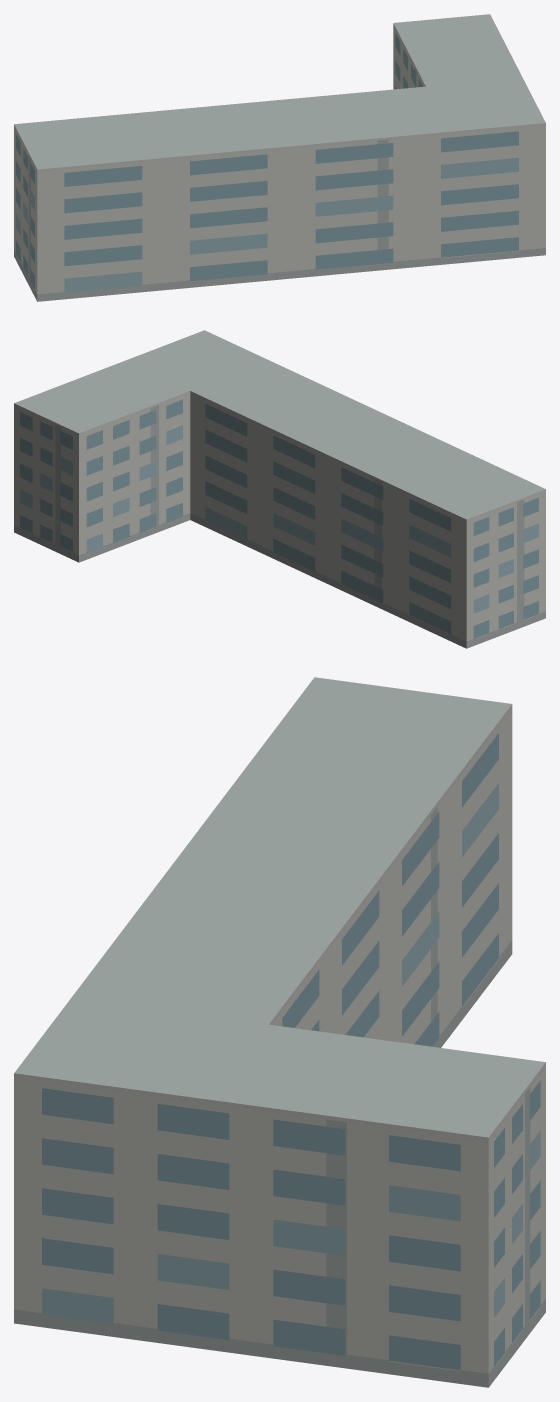
Rendered from residential-fe9609fb-17b7-47b8-a38f-8f9f9dfe7668.glb.
3 renders of one model, top to bottom at view 1: azimuth 30°, elevation 25°; view 2: azimuth 150°, elevation 25°; view 3: azimuth 270°, elevation 25°, orthographic. The views are drawn at different scales.
Parts seen in each view (by area): view 1: residential-fe9609fb-17b7-47b8-a38f-8f9f9dfe7668.tmp; view 2: residential-fe9609fb-17b7-47b8-a38f-8f9f9dfe7668.tmp; view 3: residential-fe9609fb-17b7-47b8-a38f-8f9f9dfe7668.tmp.
Boxes of the visible parts, x1,y1,x2,y2 form: residential-fe9609fb-17b7-47b8-a38f-8f9f9dfe7668.tmp: [14, 14, 545, 301]; residential-fe9609fb-17b7-47b8-a38f-8f9f9dfe7668.tmp: [14, 330, 545, 648]; residential-fe9609fb-17b7-47b8-a38f-8f9f9dfe7668.tmp: [14, 677, 545, 1387].
Size of the model in its own units: 60.19 by 15.25 by 29.39.
